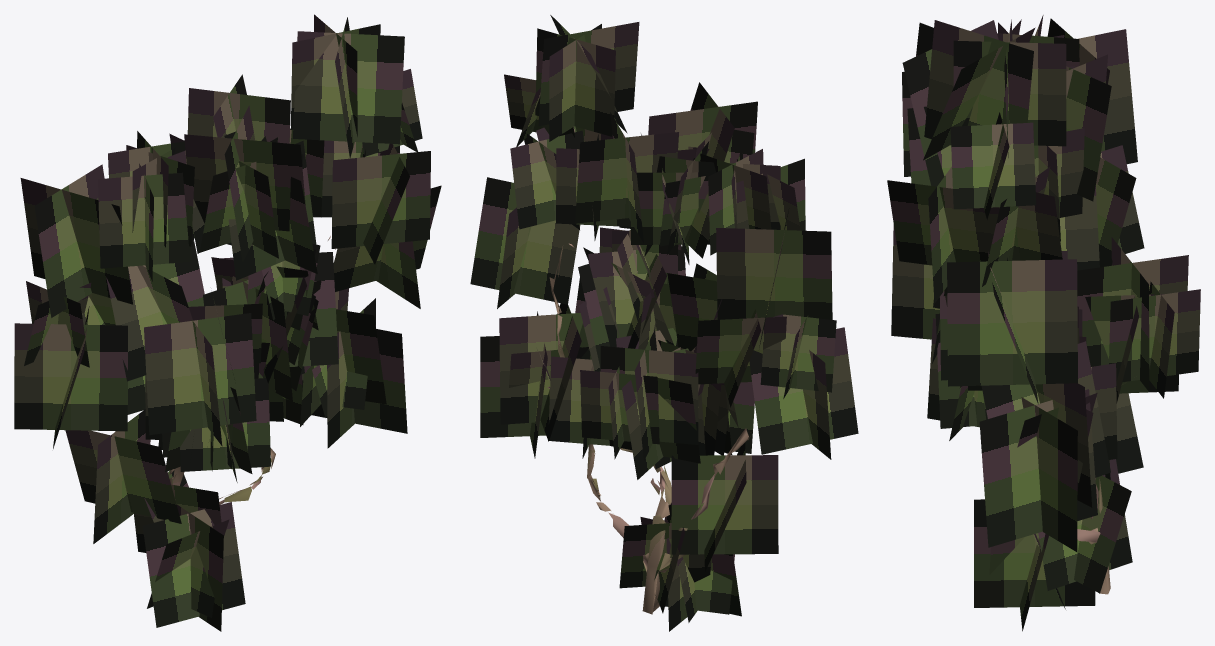
Rendered from desertwillow.glb.
The picture shows the model from 3 angles, left to right: view 1: azimuth 30°, elevation 25°; view 2: azimuth 150°, elevation 25°; view 3: azimuth 270°, elevation 25°; orthographic projection. The views are drawn at different scales.
Visible parts, largest first — view 1: cards, LO.001; view 2: cards, LO.001; view 3: cards, LO.001.
Boxes of the visible parts, x1,y1,x2,y2 form: cards: (14, 14, 441, 631); LO.001: (151, 236, 335, 517); cards: (470, 15, 858, 631); LO.001: (547, 243, 750, 614); cards: (887, 15, 1200, 631); LO.001: (1077, 384, 1122, 594).
Bounding box in the file's own units: 0.7885 × 1.07 × 0.4748.
2 materials, 2 textured.
